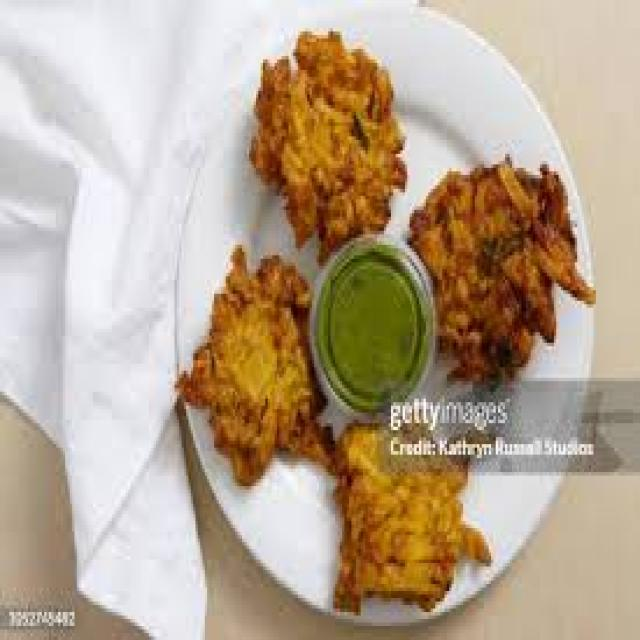BAJI: (425, 169, 581, 376), (267, 33, 406, 250), (197, 266, 328, 480), (334, 424, 472, 599)
